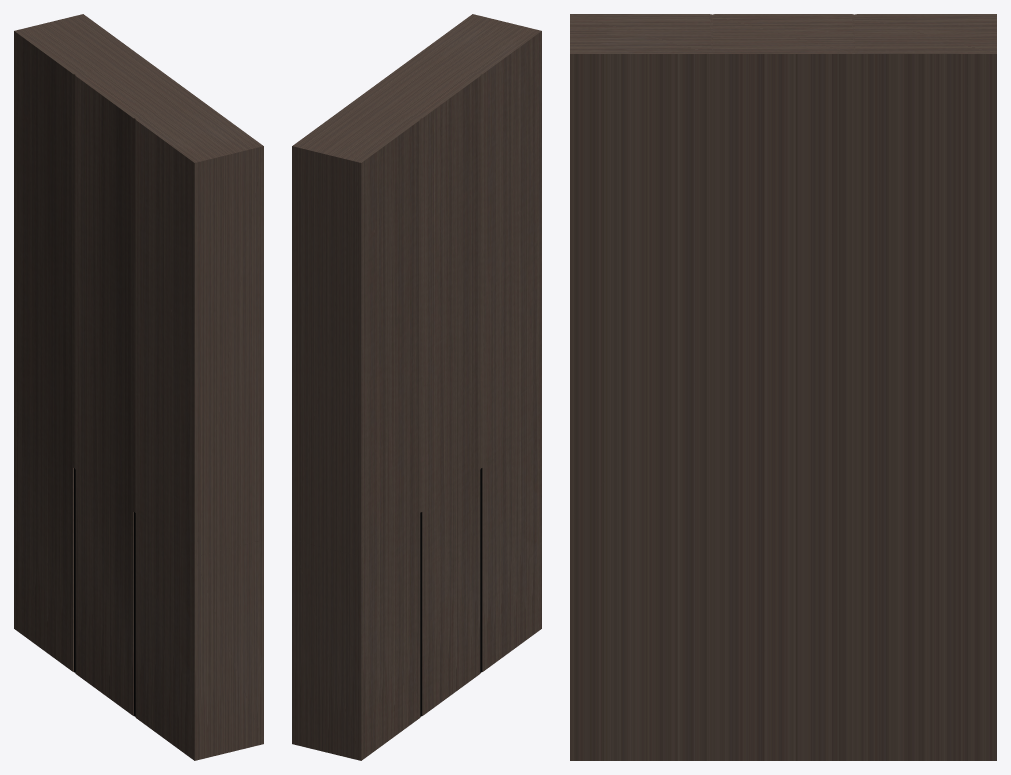
File: wardrobe.FBX
The picture shows the model from 3 angles, left to right: view 1: azimuth 30°, elevation 25°; view 2: azimuth 150°, elevation 25°; view 3: azimuth 270°, elevation 25°; orthographic projection. The views are drawn at different scales.
Parts seen in each view (by area): view 1: 柜子; view 2: 柜子; view 3: 柜子.
Part boxes in pixels (x1,y1,x2,y2): 柜子: (14,14,263,760); 柜子: (292,14,541,760); 柜子: (570,14,996,760).
Size of the model in its own units: 33.69 by 278 by 152.
2 materials, 1 textured.
